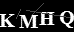H: (38, 11, 56, 25)
K: (1, 12, 15, 28)
M: (17, 14, 39, 29)
Q: (59, 10, 74, 28)
